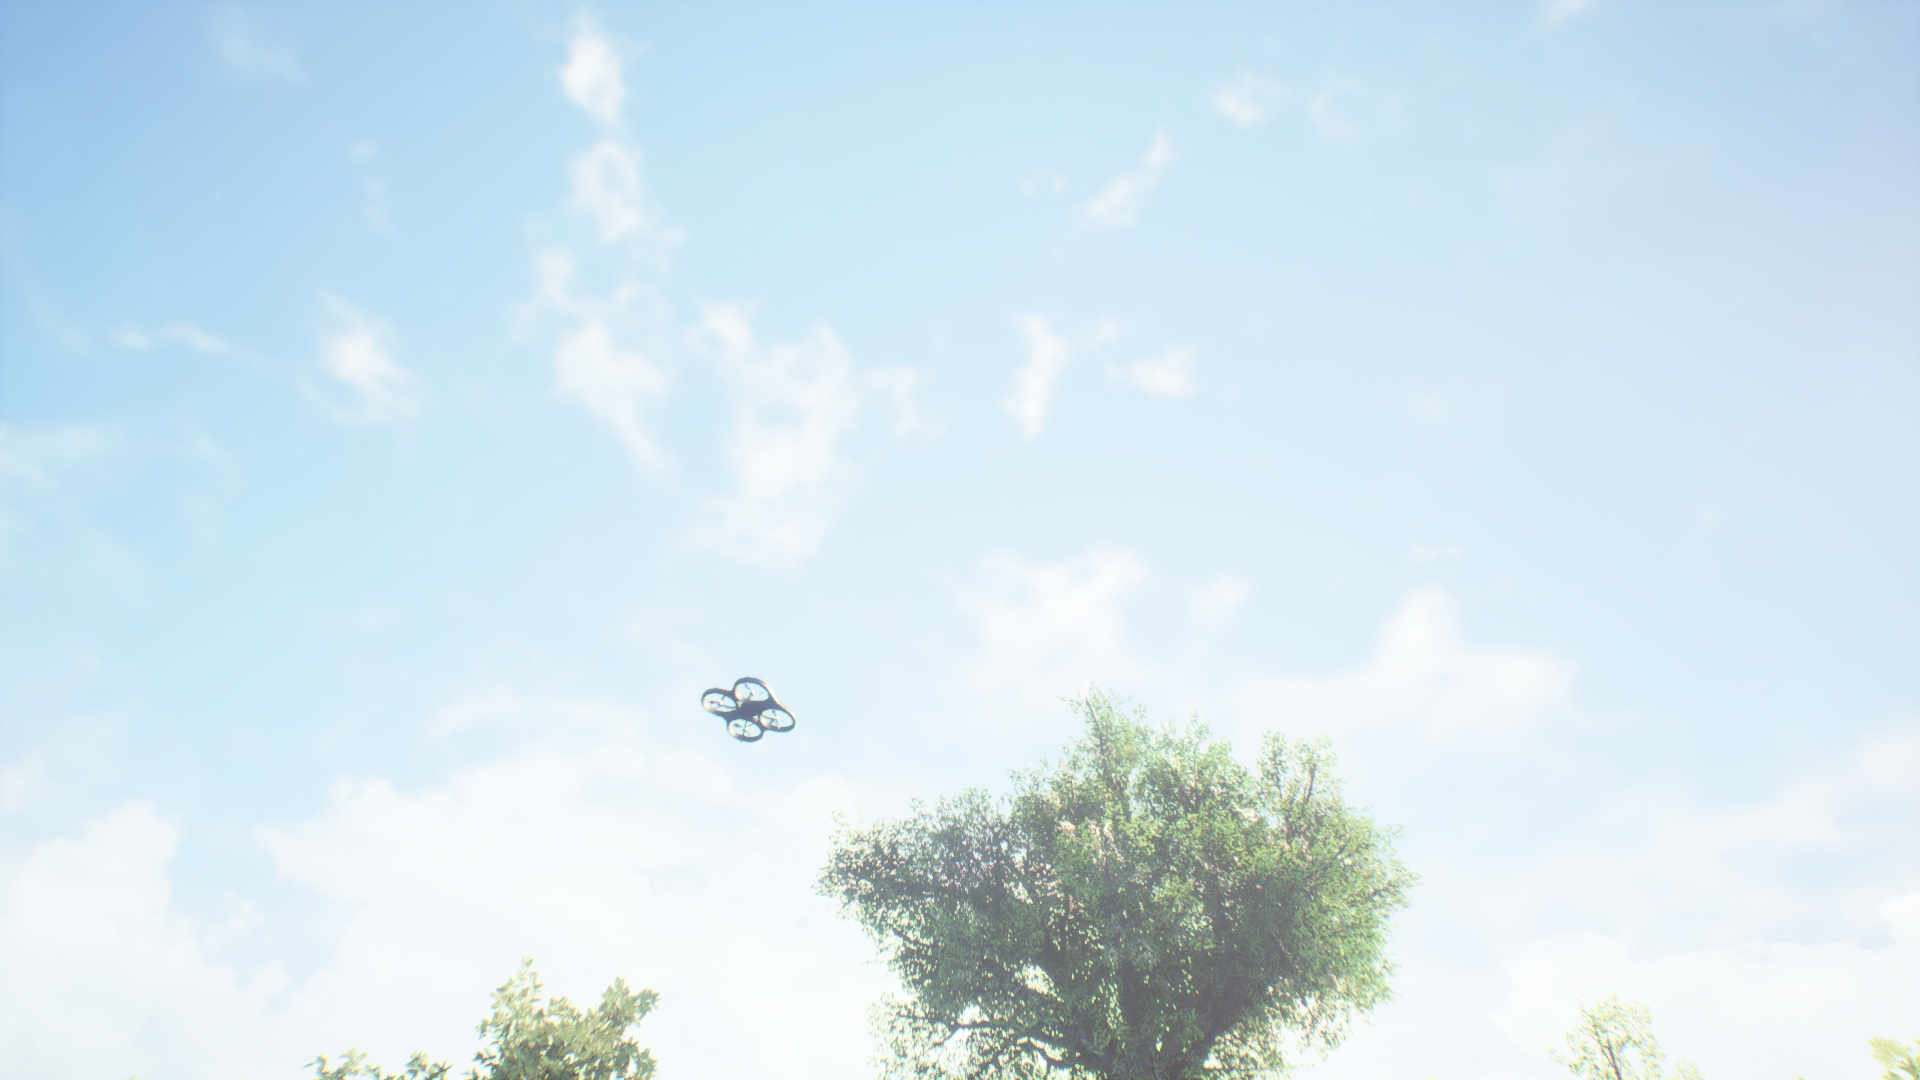UAV: (665, 678, 793, 778)
